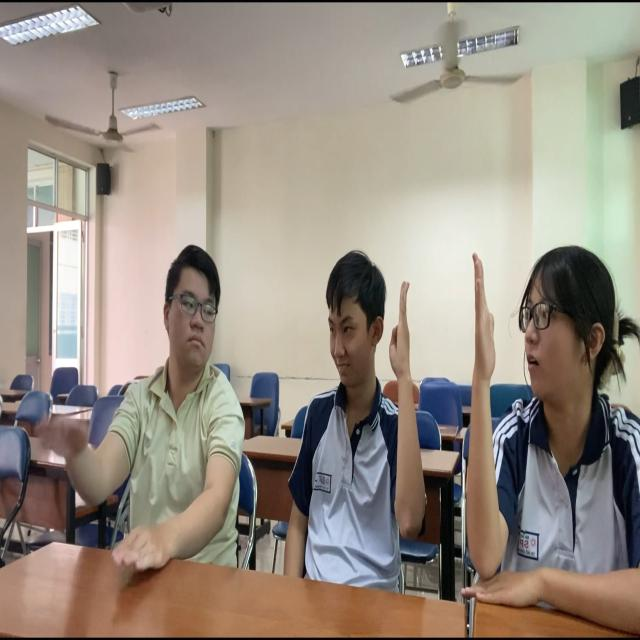raise_hand: (456, 223, 640, 640), (281, 234, 426, 604)
